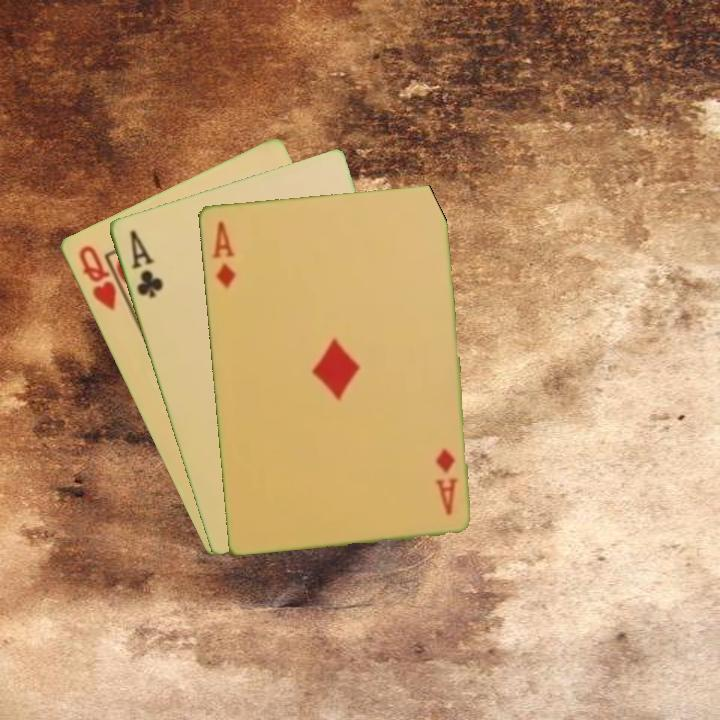Ac: (126, 226, 166, 301)
Ad: (208, 217, 238, 291), (432, 444, 461, 518)
Qh: (74, 241, 119, 313)
